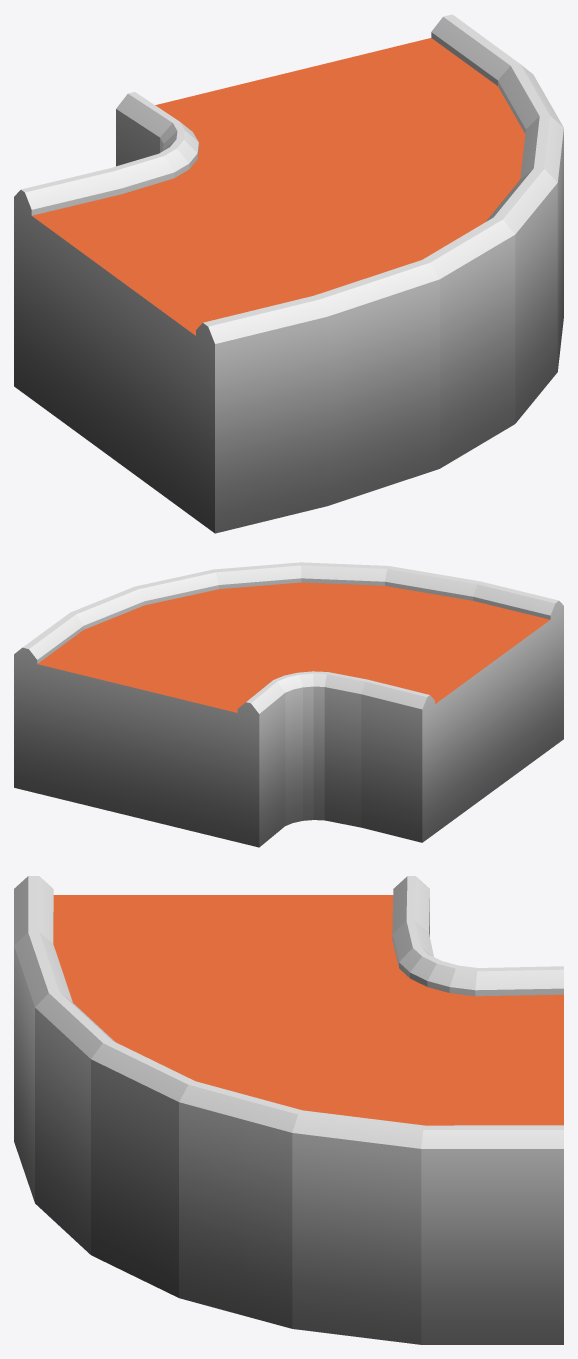
Rendered from Inner_Curve_Pavement.fbx.
3 views of the same model, one above another, from view 1: azimuth 30°, elevation 25°; view 2: azimuth 150°, elevation 25°; view 3: azimuth 270°, elevation 25° (orthographic). The views are drawn at different scales.
Visible parts, largest first — view 1: Inner_Curve_Pavement; view 2: Inner_Curve_Pavement; view 3: Inner_Curve_Pavement.
Boxes of the visible parts, x1,y1,x2,y2 form: Inner_Curve_Pavement: [14, 14, 563, 533]; Inner_Curve_Pavement: [14, 562, 563, 847]; Inner_Curve_Pavement: [14, 876, 563, 1344].
Bounding box in the file's own units: 119 × 44.72 × 107.
